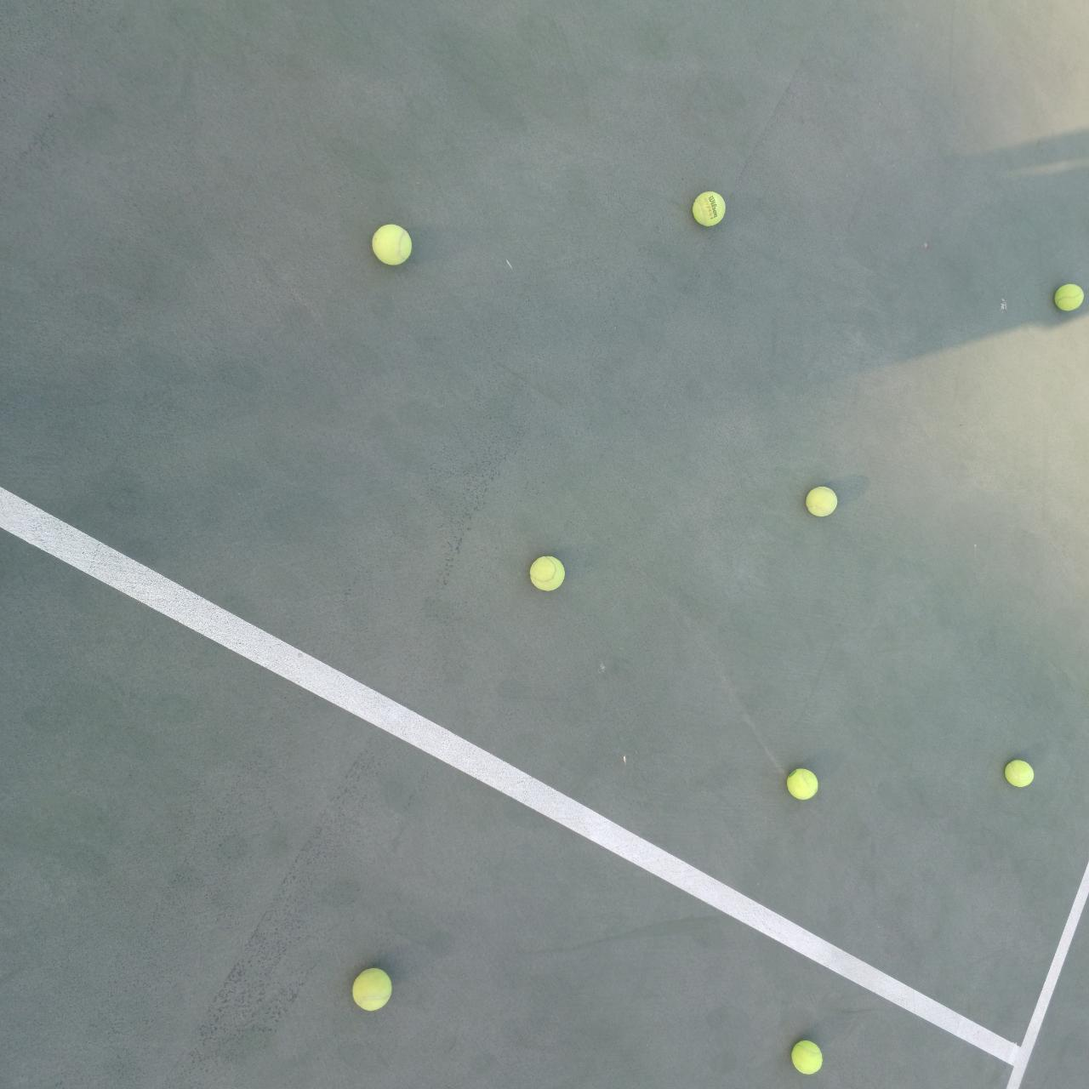tennis-ball: (369, 220, 413, 266), (350, 964, 392, 1012), (527, 553, 565, 591), (690, 188, 727, 227), (790, 1037, 824, 1075), (784, 765, 818, 801), (804, 483, 838, 517), (1002, 756, 1035, 788), (1052, 281, 1084, 312)
